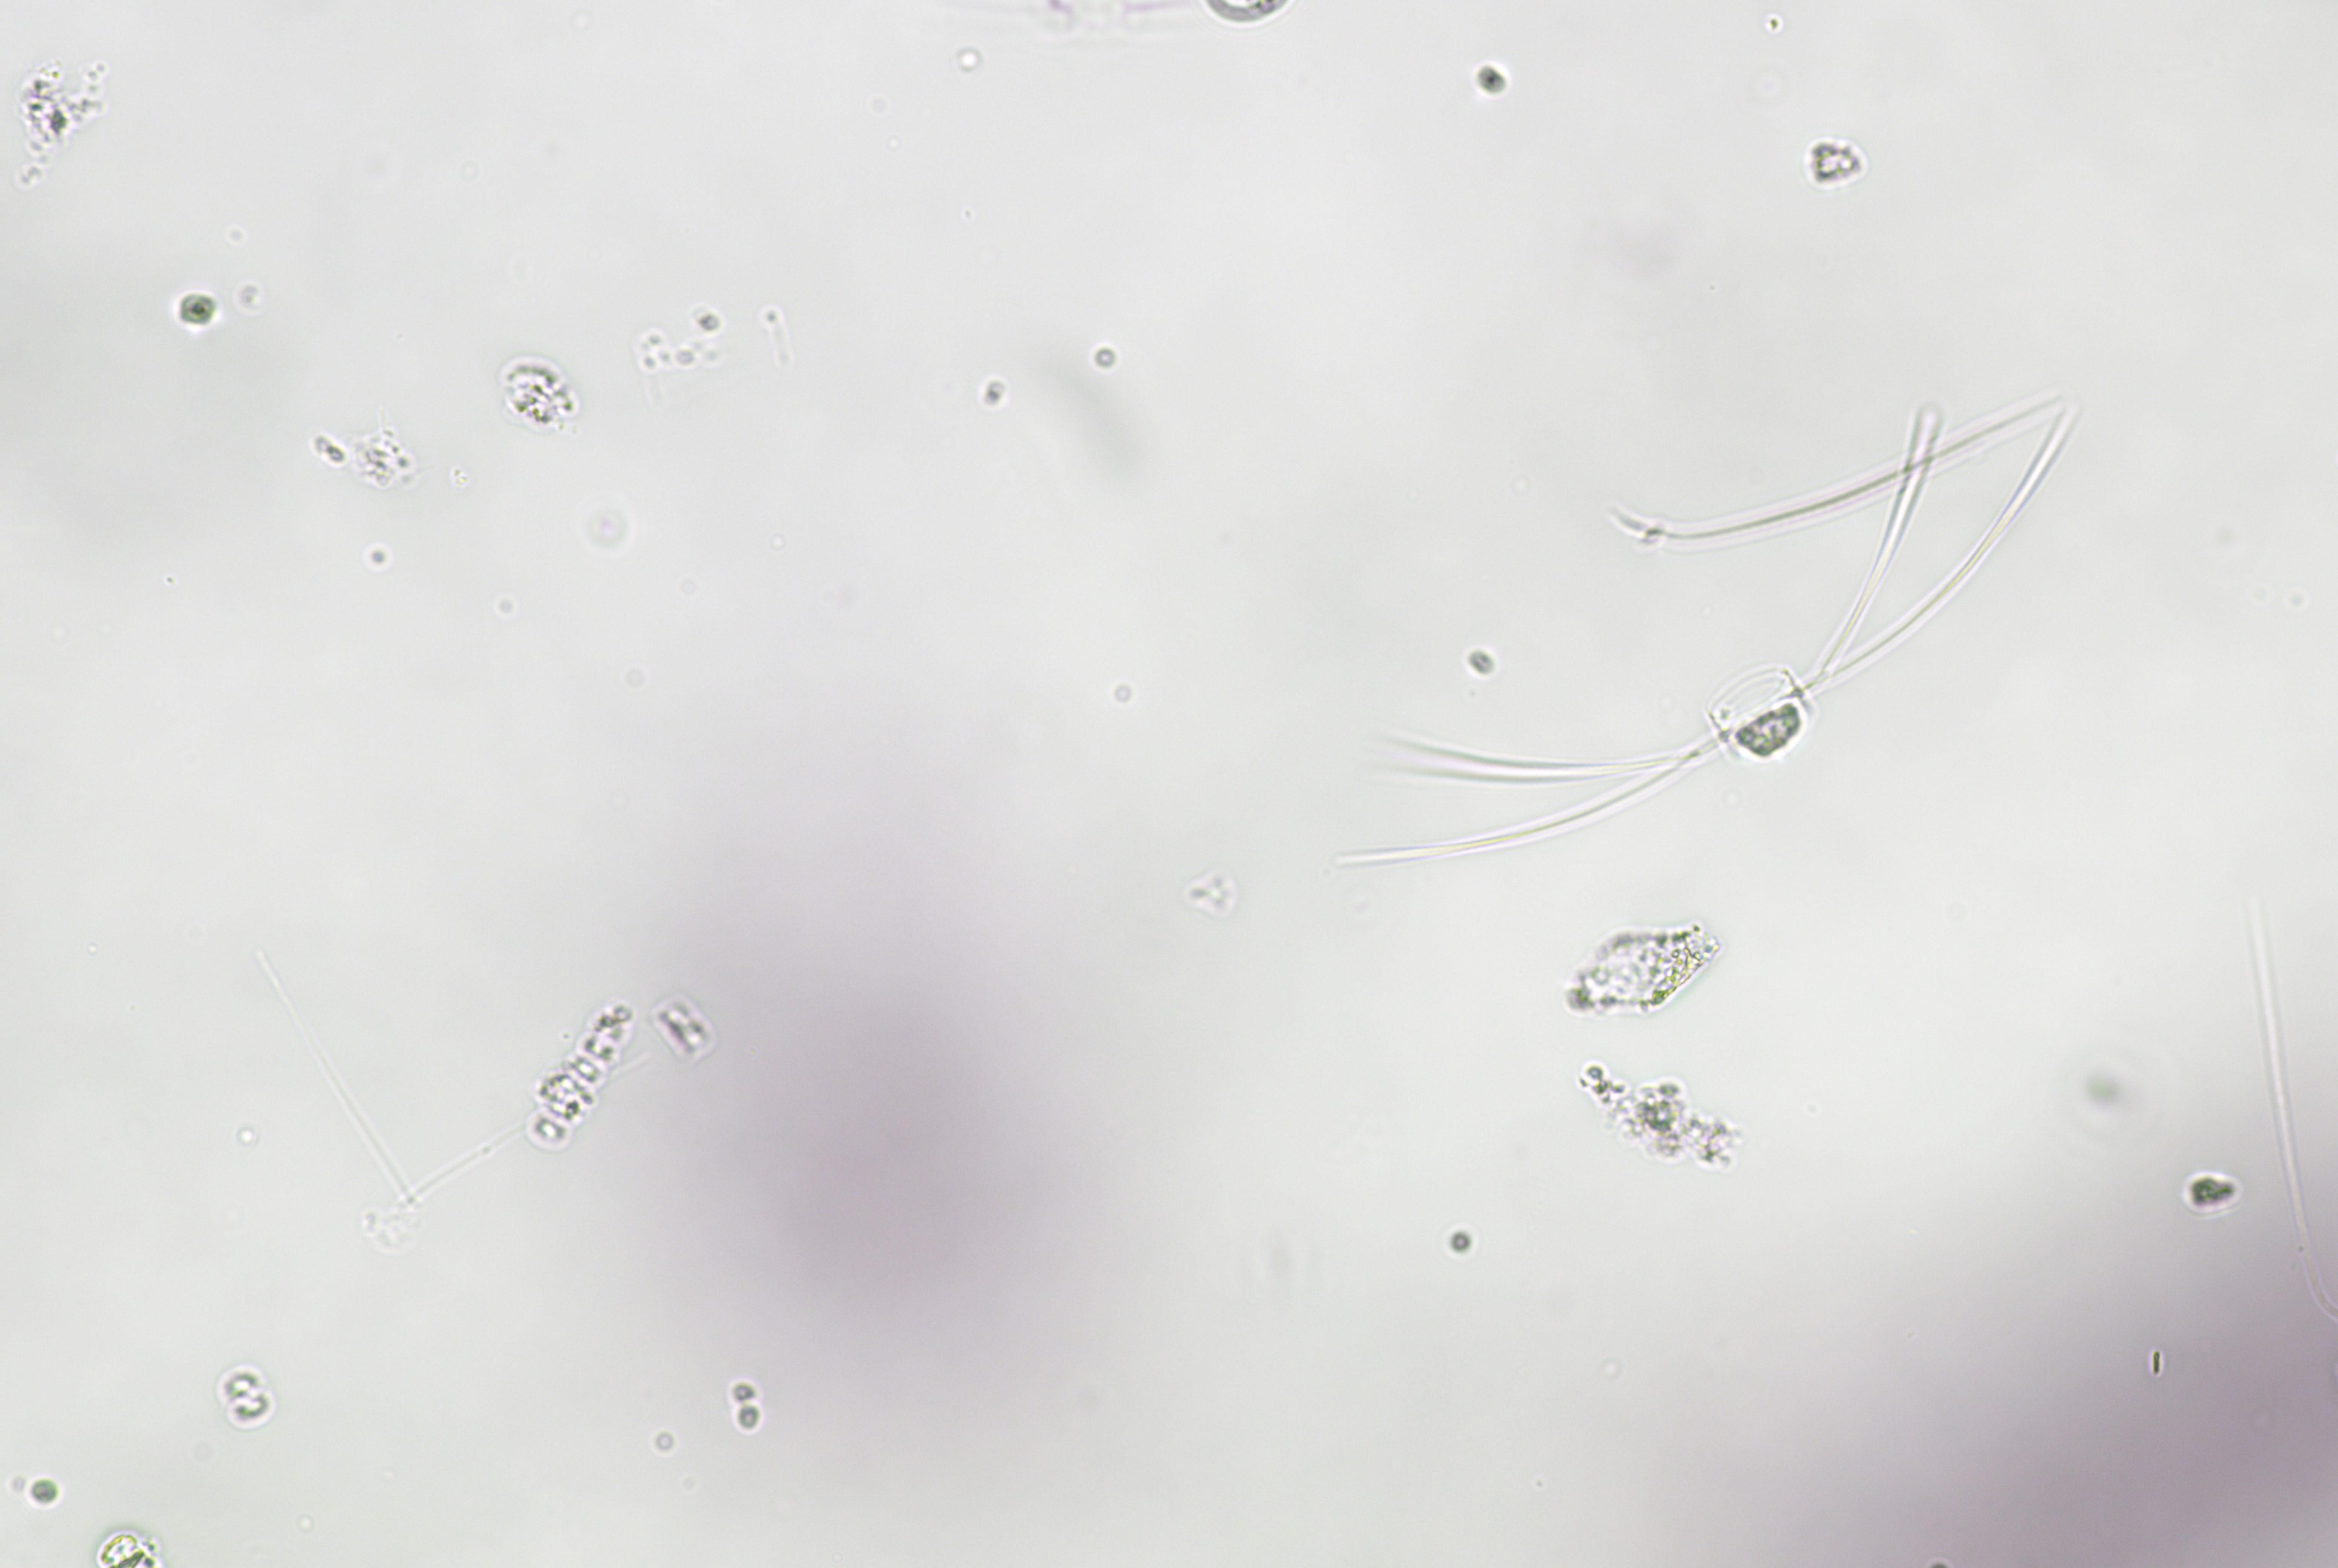chaetoceros: (1342, 402, 2084, 875)
